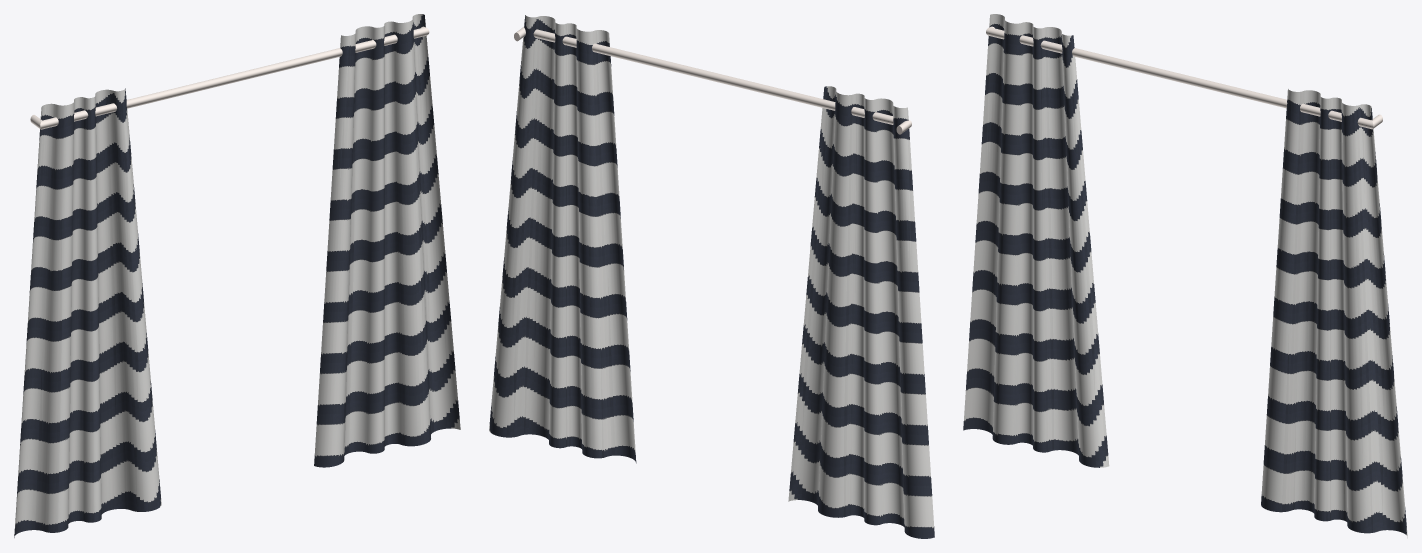
File: C&B+Alston+Blue+Curtains (1).obj
3 renders of one model, left to right at view 1: azimuth 30°, elevation 25°; view 2: azimuth 150°, elevation 25°; view 3: azimuth 330°, elevation 25°, orthographic.
Parts seen in each view (by area): view 1: Mesh2 Curtain1 Curtain_Rod_with_curtains1 Model, Mesh3 Curtain2 Curtain_Rod_with_curtains1 Model, Mesh1 Group1 Curtain_Rod_with_curtains1 Model; view 2: Mesh3 Curtain2 Curtain_Rod_with_curtains1 Model, Mesh2 Curtain1 Curtain_Rod_with_curtains1 Model, Mesh1 Group1 Curtain_Rod_with_curtains1 Model; view 3: Mesh3 Curtain2 Curtain_Rod_with_curtains1 Model, Mesh2 Curtain1 Curtain_Rod_with_curtains1 Model, Mesh1 Group1 Curtain_Rod_with_curtains1 Model.
Boxes of the visible parts, box(x1,y1,x2,y2) form: Mesh2 Curtain1 Curtain_Rod_with_curtains1 Model: box(14, 88, 161, 537); Mesh3 Curtain2 Curtain_Rod_with_curtains1 Model: box(314, 14, 460, 467); Mesh1 Group1 Curtain_Rod_with_curtains1 Model: box(30, 26, 429, 129); Mesh3 Curtain2 Curtain_Rod_with_curtains1 Model: box(489, 15, 636, 463); Mesh2 Curtain1 Curtain_Rod_with_curtains1 Model: box(788, 86, 934, 538); Mesh1 Group1 Curtain_Rod_with_curtains1 Model: box(514, 27, 911, 134); Mesh3 Curtain2 Curtain_Rod_with_curtains1 Model: box(1261, 89, 1407, 538); Mesh2 Curtain1 Curtain_Rod_with_curtains1 Model: box(963, 14, 1109, 467); Mesh1 Group1 Curtain_Rod_with_curtains1 Model: box(986, 26, 1382, 129).
Size of the model in its own units: 92.98 by 84.51 by 5.
